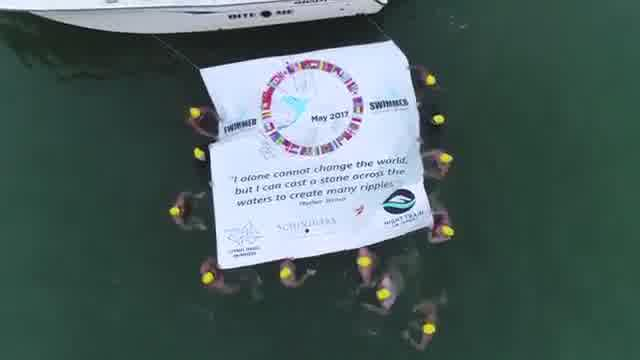human: (362, 270, 408, 320), (404, 298, 446, 351), (164, 189, 210, 233), (418, 143, 456, 184), (184, 106, 228, 139), (197, 258, 230, 299), (350, 244, 380, 288), (426, 206, 459, 246), (272, 258, 310, 292), (408, 62, 442, 96)
